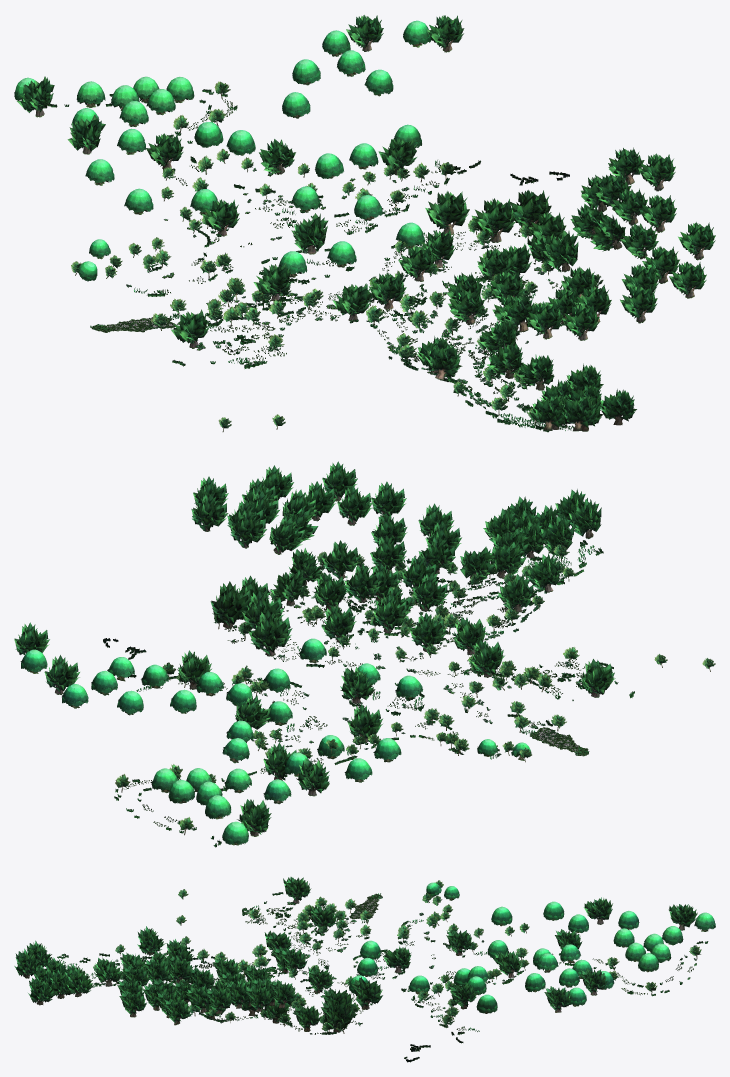
File: FdAr01Zn01Plants01.obj
The picture shows the model from 3 angles, top to bottom: view 1: azimuth 30°, elevation 25°; view 2: azimuth 150°, elevation 25°; view 3: azimuth 270°, elevation 25°; orthographic projection. The views are drawn at different scales.
Parts seen in each view (by area): view 1: polygon1363, polygon774, polygon1358, polygon1360, polygon129, polygon1366, polygon0, polygon1340, polygon773, polygon1484; view 2: polygon1363, polygon774, polygon1358, polygon1360, polygon129, polygon1340, polygon0, polygon1366, polygon773, polygon1484; view 3: polygon1363, polygon774, polygon1358, polygon1360, polygon129, polygon1340, polygon0, polygon1366, polygon1484, polygon773.
Boxes of the visible parts, x1,y1,x2,y2 form: polygon1363: (17, 15, 715, 427); polygon774: (71, 81, 603, 428); polygon1358: (15, 20, 429, 278); polygon1360: (14, 29, 431, 281); polygon129: (14, 34, 599, 432); polygon1366: (35, 38, 704, 430); polygon0: (48, 91, 600, 408); polygon1340: (126, 99, 562, 393); polygon773: (75, 42, 596, 431); polygon1484: (91, 317, 176, 332); polygon1363: (14, 461, 615, 834); polygon774: (115, 544, 715, 830); polygon1358: (21, 638, 530, 840); polygon1360: (21, 647, 531, 844); polygon129: (20, 540, 634, 845); polygon1340: (123, 578, 585, 827); polygon0: (117, 544, 618, 847); polygon1366: (24, 485, 599, 835); polygon773: (32, 551, 710, 844); polygon1484: (530, 727, 589, 756); polygon1363: (14, 877, 697, 1029); polygon774: (93, 880, 701, 1031); polygon1358: (349, 882, 715, 1010); polygon1360: (349, 885, 715, 1013); polygon129: (45, 892, 714, 1062); polygon1340: (152, 903, 693, 1034); polygon0: (101, 897, 708, 1034); polygon1366: (23, 892, 684, 1031); polygon1484: (349, 894, 382, 919); polygon773: (116, 894, 705, 1033).
Bounding box in the file's own units: 1832 × 458 × 2953.
Materials: 14 (14 with a texture image).
